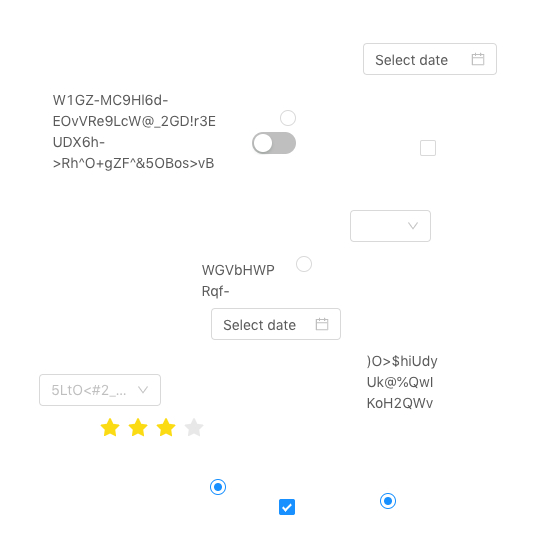Checkbox: (420, 137, 436, 158), (279, 496, 295, 517)
DatePicker: (363, 43, 497, 75), (211, 308, 341, 340)
Radio: (296, 253, 312, 273), (380, 490, 396, 510), (210, 476, 226, 496), (280, 107, 296, 127)
Rate: (100, 411, 220, 443)
Select: (39, 374, 161, 406), (350, 210, 431, 242)
Switch: (252, 131, 296, 155)
Text: (53, 89, 220, 177), (367, 350, 442, 410), (202, 259, 283, 305)
